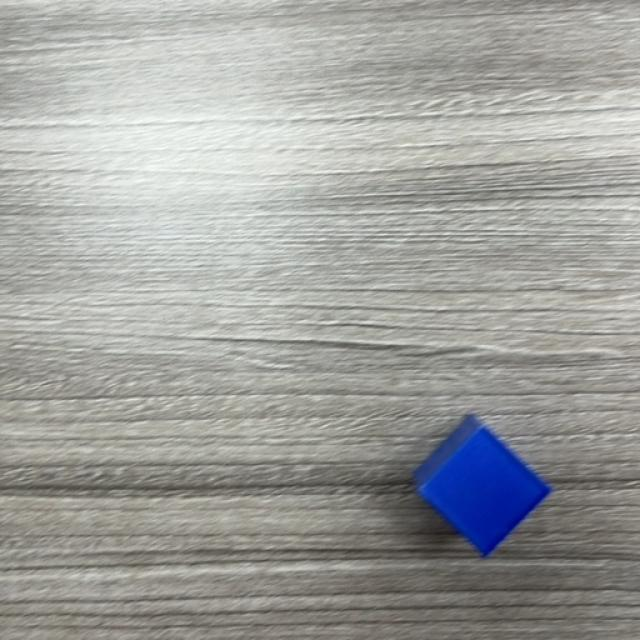Azul: (411, 414, 551, 560)
